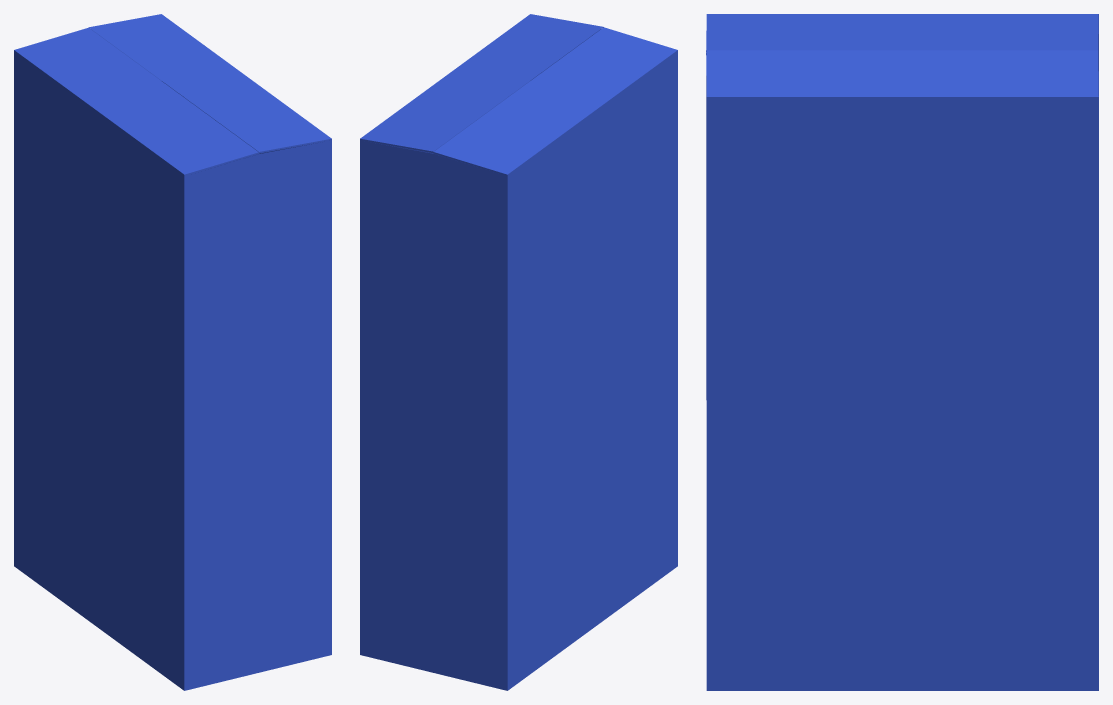
File: Kitchen_SmallProps_Cerial.fbx
3 renders of one model, left to right at view 1: azimuth 30°, elevation 25°; view 2: azimuth 150°, elevation 25°; view 3: azimuth 270°, elevation 25°, orthographic. The views are drawn at different scales.
Visible parts, largest first — view 1: Flingpacket, Opening, Opening.001; view 2: Flingpacket, Opening, Opening.001; view 3: Flingpacket, Opening.001, Opening.
Boxes of the visible parts, x1,y1,x2,y2 form: Flingpacket: (14, 29, 331, 690); Opening: (14, 27, 258, 176); Opening.001: (89, 14, 331, 153); Flingpacket: (360, 29, 677, 690); Opening: (433, 27, 677, 176); Opening.001: (360, 14, 603, 153); Flingpacket: (706, 16, 1098, 690); Opening.001: (706, 50, 1098, 96); Opening: (706, 14, 1098, 50).
Bounding box in the file's own units: 15 × 50.63 × 30.05.
